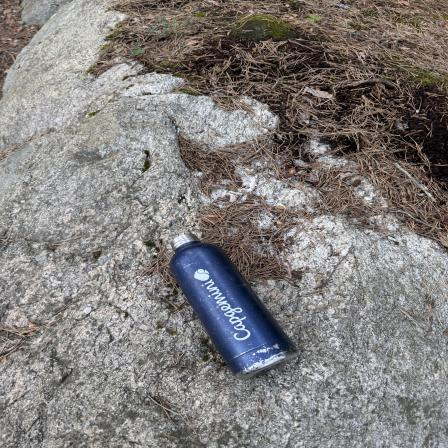blue_bottle: (167, 232, 303, 378)
